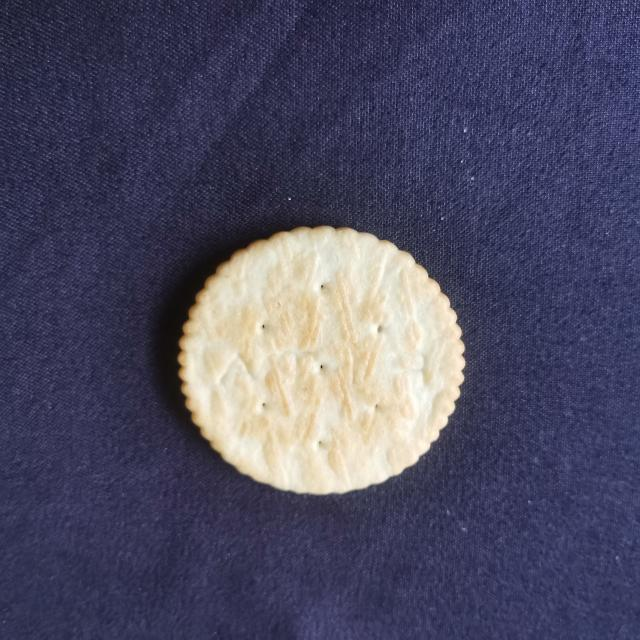Intact: (169, 212, 474, 509)
